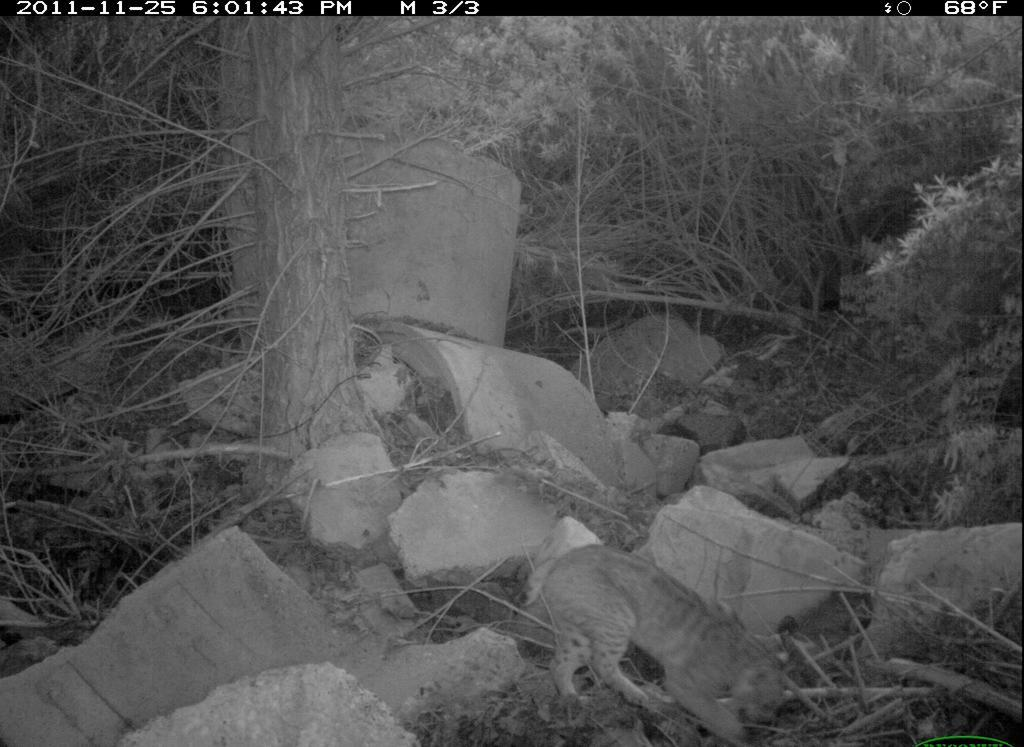bobcat: (505, 529, 803, 744)
